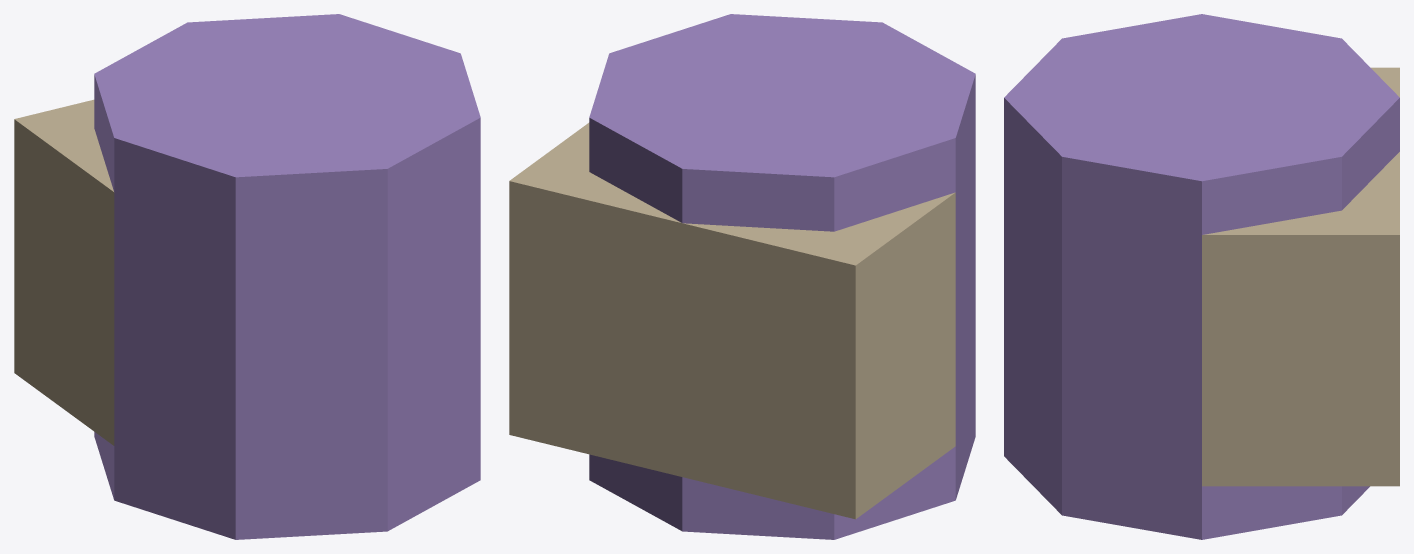
3 renders of one model, left to right at view 1: azimuth 30°, elevation 25°; view 2: azimuth 150°, elevation 25°; view 3: azimuth 270°, elevation 25°, orthographic.
Parts seen in each view (by area): view 1: part1, part0; view 2: part0, part1; view 3: part1, part0.
Boxes of the visible parts, x1=… form: part1: x1=94, y1=14, x2=480, y2=539; part0: x1=14, y1=99, x2=114, y2=445; part0: x1=509, y1=122, x2=955, y2=519; part1: x1=589, y1=14, x2=975, y2=539; part1: x1=1004, y1=14, x2=1399, y2=539; part0: x1=1202, y1=67, x2=1399, y2=486.
Size of the model in its own units: 2 by 2 by 2.
